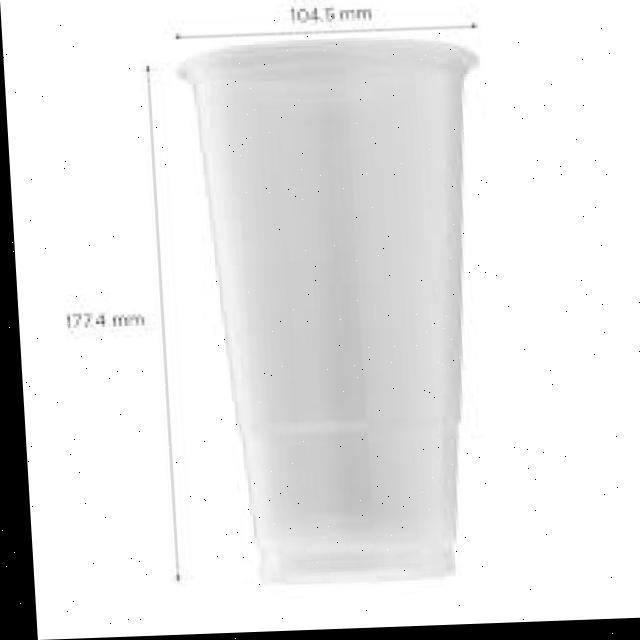cup: (133, 5, 547, 606)
